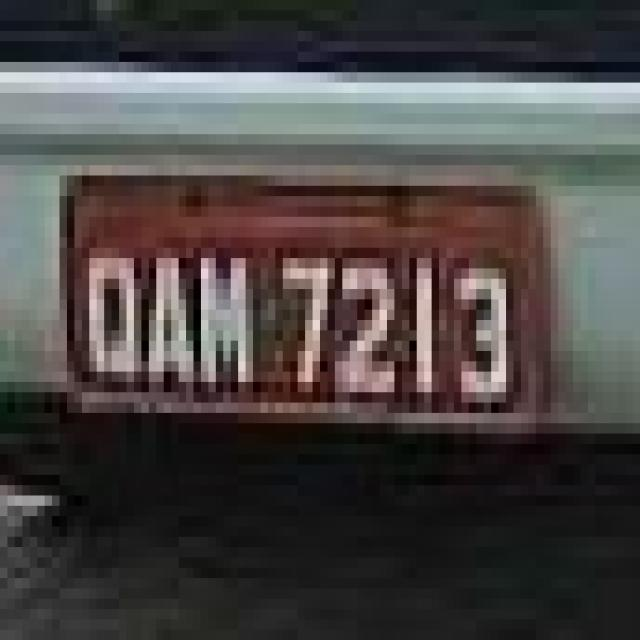1: (410, 244, 437, 403)
3: (450, 248, 515, 411)
7: (281, 247, 335, 402)
A: (145, 247, 195, 393)
M: (204, 253, 258, 394)
Q: (84, 251, 146, 394)
